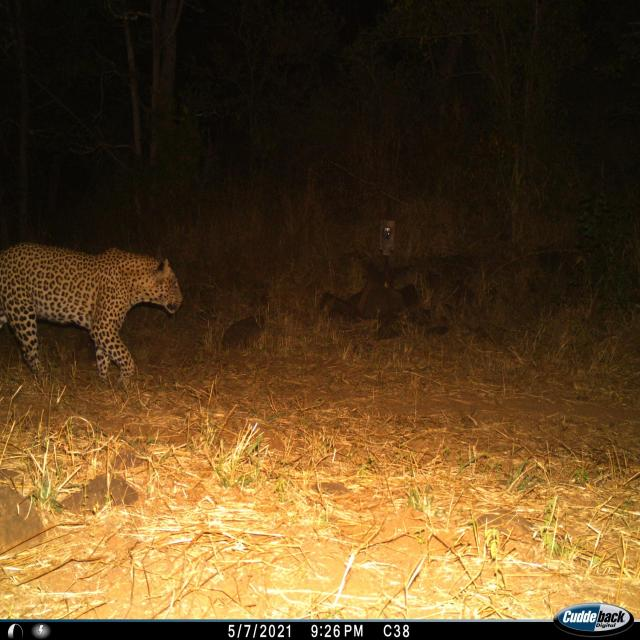Leopard: (0, 220, 181, 405)
